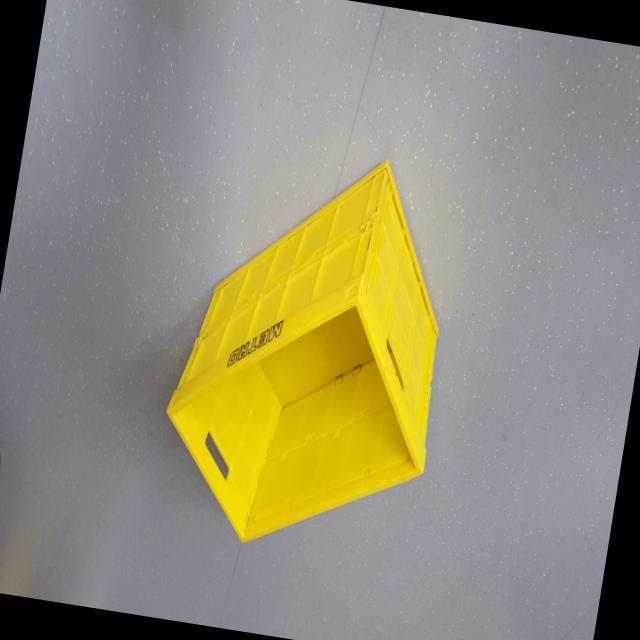box: (144, 123, 488, 588)
